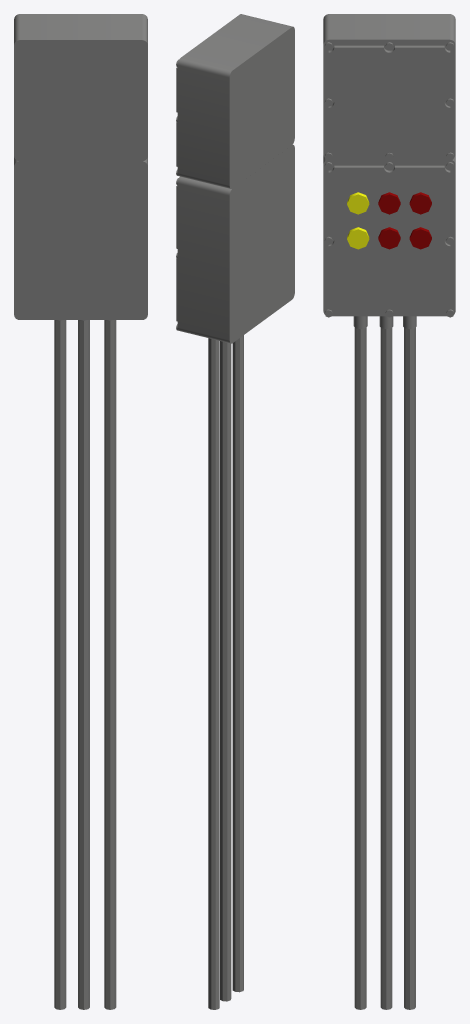
Rendered from xhk_kongzhiqi.FBX.
The picture shows the model from 3 angles, left to right: view 1: azimuth 90°, elevation 25°; view 2: azimuth 150°, elevation 25°; view 3: azimuth 270°, elevation 25°; orthographic projection. The views are drawn at different scales.
Parts seen in each view (by area): view 1: xhk_kongzhiqi; view 2: xhk_kongzhiqi; view 3: xhk_kongzhiqi.
Boxes of the visible parts, bbox=[...] form: xhk_kongzhiqi: bbox=[14, 14, 147, 1009]; xhk_kongzhiqi: bbox=[176, 14, 294, 1009]; xhk_kongzhiqi: bbox=[323, 14, 455, 1009].
Size of the model in its own units: 0.1128 by 0.2105 by 1.71.
